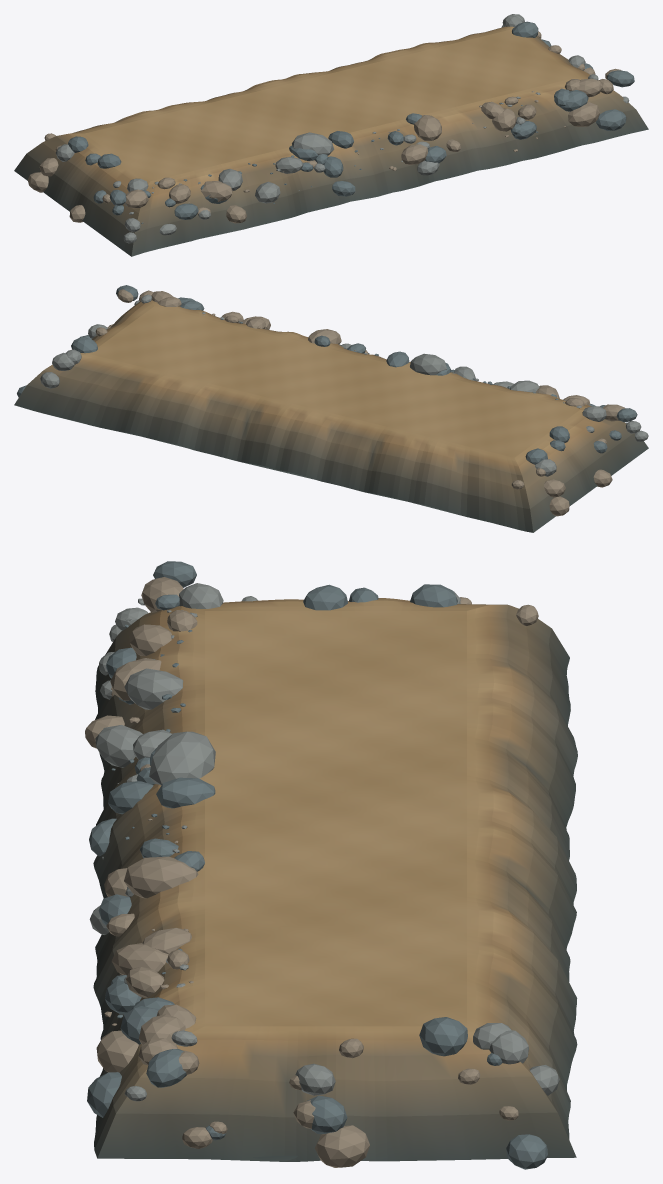
File: arena_coast.glb
3 renders of one model, top to bottom at view 1: azimuth 30°, elevation 25°; view 2: azimuth 150°, elevation 25°; view 3: azimuth 270°, elevation 25°, orthographic. The views are drawn at different scales.
Visible parts, largest first — view 1: Arena coast - flat gameplay surface, Honey limestone clusters, Dark tide rock clusters, Salt-weathered limestone clusters; view 2: Arena coast - flat gameplay surface, Honey limestone clusters, Salt-weathered limestone clusters, Dark tide rock clusters; view 3: Arena coast - flat gameplay surface, Honey limestone clusters, Dark tide rock clusters, Salt-weathered limestone clusters.
Part boxes in pixels (bbox=[...]): Arena coast - flat gameplay surface: bbox=[14, 26, 648, 256]; Honey limestone clusters: bbox=[27, 31, 621, 223]; Dark tide rock clusters: bbox=[68, 21, 634, 223]; Salt-weathered limestone clusters: bbox=[56, 14, 629, 243]; Arena coast - flat gameplay surface: bbox=[14, 300, 648, 532]; Honey limestone clusters: bbox=[70, 289, 625, 516]; Salt-weathered limestone clusters: bbox=[40, 294, 648, 476]; Dark tide rock clusters: bbox=[17, 285, 637, 464]; Arena coast - flat gameplay surface: bbox=[93, 598, 577, 1161]; Honey limestone clusters: bbox=[85, 577, 538, 1167]; Dark tide rock clusters: bbox=[87, 561, 547, 1169]; Salt-weathered limestone clusters: bbox=[89, 583, 559, 1101].
Size of the model in its own units: 60.47 by 6.55 by 24.09.
